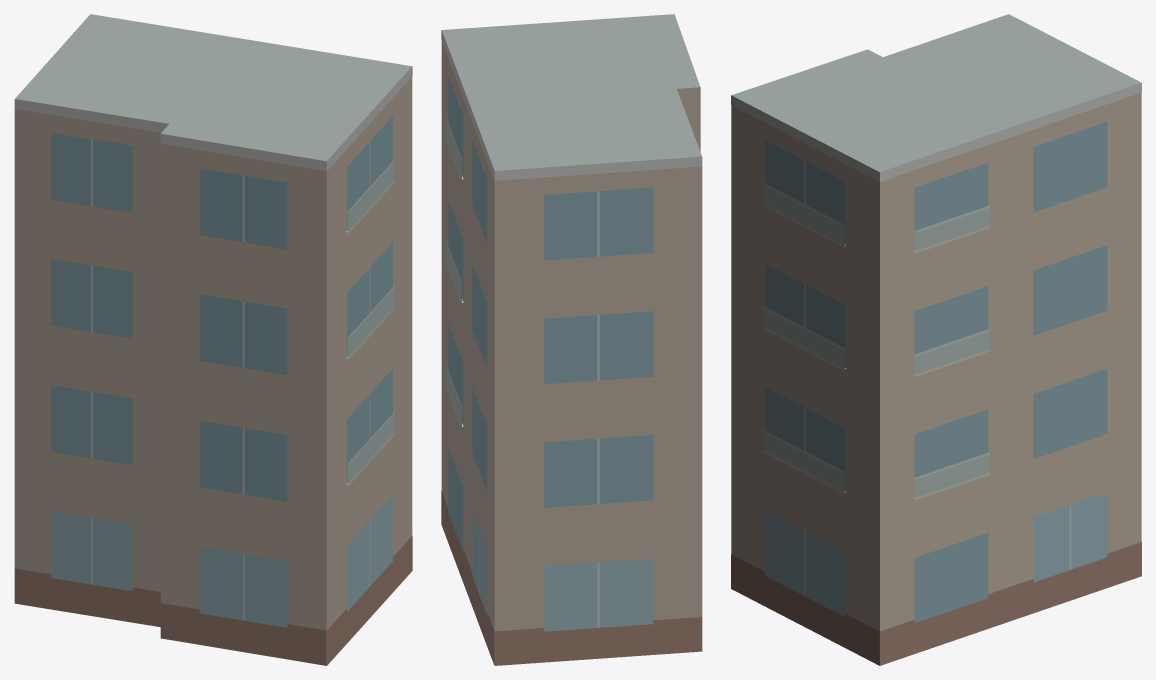
Rendered from survey-upis-32841387.glb.
3 views of the same model, side by side, from view 1: azimuth 30°, elevation 25°; view 2: azimuth 150°, elevation 25°; view 3: azimuth 270°, elevation 25° (orthographic). The views are drawn at different scales.
Parts seen in each view (by area): view 1: survey-upis-32841387.tmp; view 2: survey-upis-32841387.tmp; view 3: survey-upis-32841387.tmp.
Part boxes in pixels (x1=…): survey-upis-32841387.tmp: x1=14, y1=14, x2=412, y2=665; survey-upis-32841387.tmp: x1=441, y1=14, x2=702, y2=665; survey-upis-32841387.tmp: x1=731, y1=14, x2=1141, y2=665.
Bounding box in the file's own units: 8.4 × 12.2 × 9.21.
